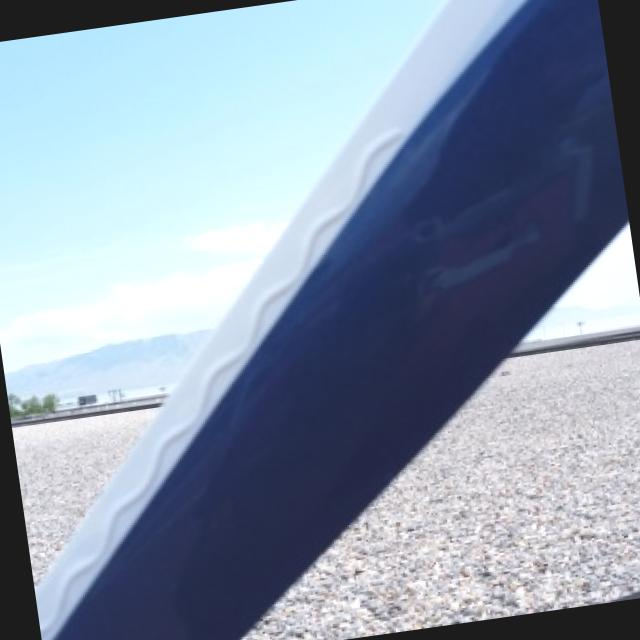healthy: (37, 0, 627, 640)
